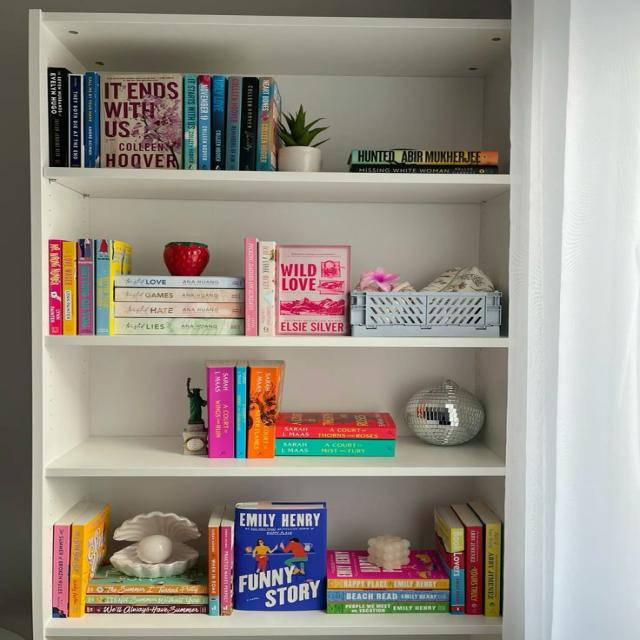book: (237, 504, 326, 610), (99, 73, 182, 168), (276, 244, 349, 336), (208, 367, 235, 458), (250, 367, 276, 459), (48, 68, 70, 166), (116, 318, 245, 334), (256, 78, 278, 171), (354, 150, 498, 164), (115, 287, 246, 302), (275, 440, 397, 456), (275, 424, 397, 440), (239, 77, 259, 170), (77, 239, 94, 336), (258, 241, 275, 337), (210, 75, 227, 170), (466, 527, 484, 614), (114, 304, 244, 316), (116, 276, 244, 288), (96, 240, 112, 335), (225, 76, 241, 170), (485, 524, 501, 617), (328, 578, 449, 590), (84, 72, 99, 167), (70, 526, 85, 617), (244, 238, 258, 335), (183, 74, 197, 169), (48, 240, 62, 334), (354, 164, 498, 173), (54, 526, 68, 618), (197, 75, 210, 170), (86, 594, 208, 604), (327, 602, 449, 612), (327, 591, 449, 601), (69, 74, 82, 167), (89, 584, 208, 594), (64, 242, 76, 335), (236, 367, 248, 459), (209, 527, 221, 615), (452, 528, 464, 614), (85, 605, 208, 613), (221, 527, 231, 615)
candle: (358, 532, 419, 572)
plants: (276, 106, 330, 172)
